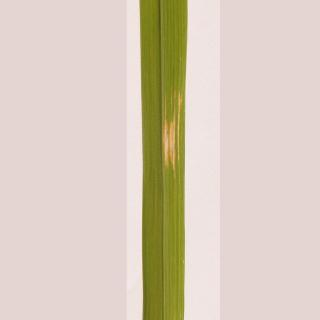Hawar-Daun: (153, 95, 187, 190)
